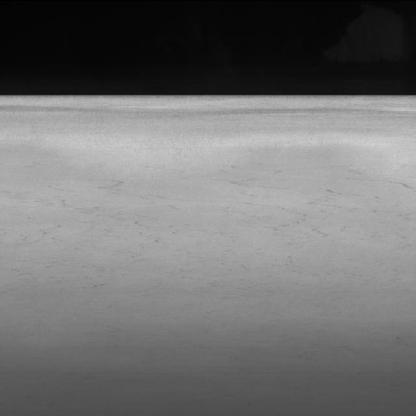silk_spot: (12, 161, 416, 267)
